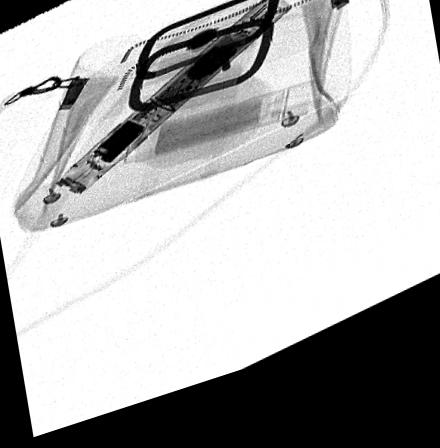Baton: (55, 8, 292, 200)
